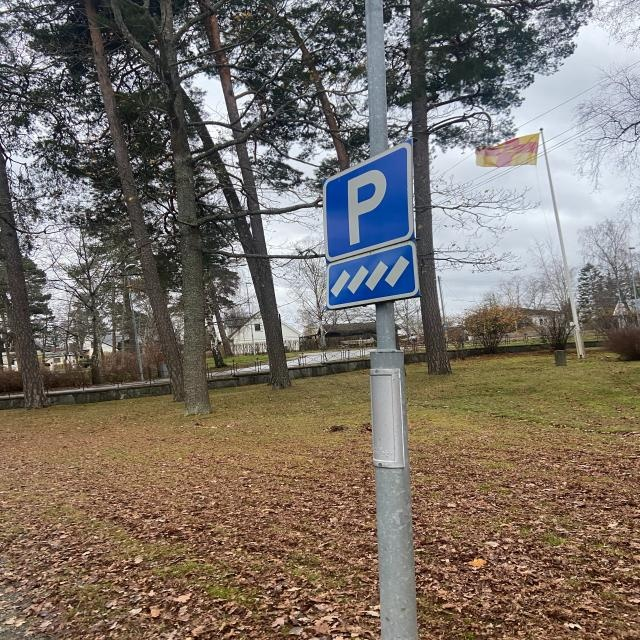avstignnigsplats: (315, 139, 420, 262)
